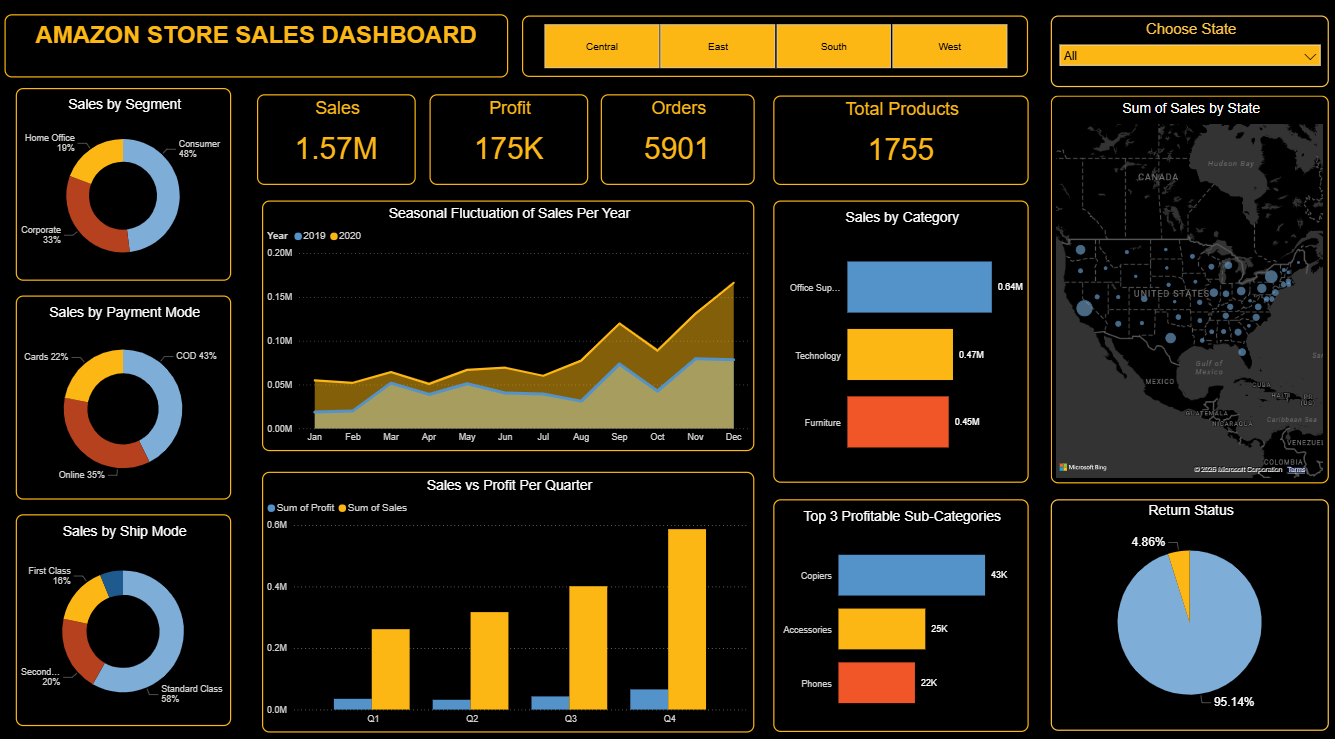

What the dashboard file says about the page in this screenshot:
{"tool":"powerbi","page":{"name":"Page 1","canvas":[1800,1000],"ordinal":0},"visuals":[{"type":"textbox","box":[10.1,22,675.4,84.4],"z":0},{"type":"card","title":"Sales","fields":{"Values":["Sum(Amazon Store Sales Data.Sales)"]},"box":[347.8,128.3,212.8,121.6],"z":1000},{"type":"card","title":"Profit","fields":{"Values":["Sum(Amazon Store Sales Data.Profit)"]},"box":[579.2,128.3,212.8,121.6],"z":2000},{"type":"card","title":"Orders","fields":{"Values":["CountNonNull(Amazon Store Sales Data.Order ID)"]},"box":[808.8,128.3,206,121.6],"z":3000},{"type":"card","title":"Total Products","fields":{"Values":["Count(Amazon Store Sales Data.Product ID)"]},"box":[1040.2,130,342.8,119.9],"z":4000},{"type":"map","title":"Sum of Sales by State","fields":{"Category":["Amazon Store Sales Data.State"],"Size":["Sum(Amazon Store Sales Data.Sales)"]},"box":[1413.3,130,373.2,520.1],"z":5000},{"type":"slicer","title":"Choose State","fields":{"Values":["Amazon Store Sales Data.State"]},"box":[1413.3,23.6,373.2,96.2],"z":6000},{"type":"pieChart","title":"Return Status","fields":{"Category":["Amazon Store Sales Data.Returns"],"Y":["CountNonNull(Amazon Store Sales Data.Order ID)"]},"box":[1413.3,672,373.2,310.7],"z":7000},{"type":"areaChart","title":"Seasonal Fluctuation of Sales Per Year","fields":{"Y":["Sum(Amazon Store Sales Data.Sales)"],"Category":["Amazon Store Sales Data.Month"],"Series":["Amazon Store Sales Data.Year"]},"box":[354.6,271.9,660.2,336],"z":8000},{"type":"lineClusteredColumnComboChart","title":"Sales vs Profit Per Quarter","fields":{"Category":["Amazon Store Sales Data.Quarter"],"Y":["Sum(Amazon Store Sales Data.Profit)","Sum(Amazon Store Sales Data.Sales)"]},"box":[354.6,634.9,660.2,349.5],"z":9000},{"type":"clusteredBarChart","title":"Sales by Category","fields":{"Category":["Amazon Store Sales Data.Category"],"Y":["Sum(Amazon Store Sales Data.Sales)"]},"box":[1040.2,271.9,342.8,378.2],"z":10000},{"type":"clusteredBarChart","title":"Top 3 Profitable Sub-Categories","fields":{"Category":["Amazon Store Sales Data.Sub-Category"],"Y":["Sum(Amazon Store Sales Data.Profit)"]},"box":[1040.2,672,342.8,312.4],"z":11000},{"type":"donutChart","title":"Sales by Segment","fields":{"Y":["Sum(Amazon Store Sales Data.Sales)"],"Category":["Amazon Store Sales Data.Segment"]},"box":[25.3,119.9,288.7,258.3],"z":12000},{"type":"donutChart","title":"Sales by Payment Mode","fields":{"Y":["Sum(Amazon Store Sales Data.Sales)"],"Category":["Amazon Store Sales Data.Payment Mode"]},"box":[25.3,398.5,288.7,273.5],"z":13000},{"type":"donutChart","title":"Sales by Ship Mode","fields":{"Y":["Sum(Amazon Store Sales Data.Sales)"],"Category":["Amazon Store Sales Data.Ship Mode"]},"box":[25.3,692.3,288.7,283.7],"z":14000},{"type":"slicer","fields":{"Values":["Amazon Store Sales Data.Region"]},"box":[704.1,23.6,678.8,82.7],"z":15000}]}

Visuals, with their boxes in screenshot pixels (x1, y1, x2, y2), scaled from the page's 1800x1000 canvas onto the 1335x739 screenshot:
textbox: 7 16 508 79
"Sales" card: 258 95 416 185
"Profit" card: 430 95 587 185
"Orders" card: 600 95 753 185
"Total Products" card: 771 96 1026 185
"Sum of Sales by State" map: 1048 96 1325 480
"Choose State" slicer: 1048 17 1325 89
"Return Status" pieChart: 1048 497 1325 726
"Seasonal Fluctuation of Sales Per Year" areaChart: 263 201 753 449
"Sales vs Profit Per Quarter" lineClusteredColumnComboChart: 263 469 753 727
"Sales by Category" clusteredBarChart: 771 201 1026 480
"Top 3 Profitable Sub-Categories" clusteredBarChart: 771 497 1026 727
"Sales by Segment" donutChart: 19 89 233 279
"Sales by Payment Mode" donutChart: 19 294 233 497
"Sales by Ship Mode" donutChart: 19 512 233 721
slicer - Amazon Store Sales Data.Region: 522 17 1026 79
